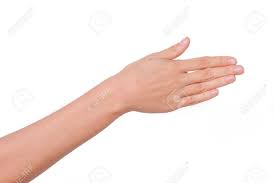hand: (101, 33, 246, 121)
